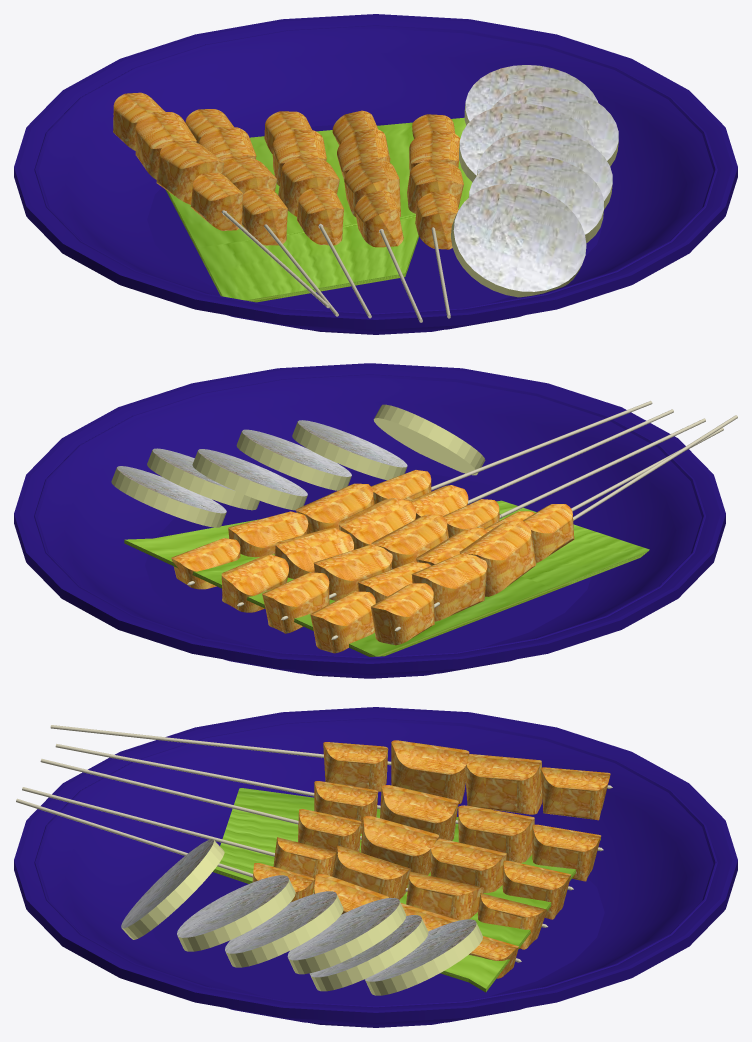
The model's file is sate ayam dan lontong.fbx.
The picture shows the model from 3 angles, top to bottom: view 1: azimuth 30°, elevation 25°; view 2: azimuth 150°, elevation 25°; view 3: azimuth 270°, elevation 25°; orthographic projection.
Parts seen in each view (by area): view 1: piring, sate.002, Cube, Cylinder.004, Cylinder.001, Cylinder.003, Cylinder.002, Cylinder.005, Cylinder.006; view 2: piring, sate.002, Cube, Cylinder.004, Cylinder.003, Cylinder.002, Cylinder.001, Cylinder.006, Cylinder.005; view 3: piring, sate.002, Cube, Cylinder.001, Cylinder.003, Cylinder.002, Cylinder.006, Cylinder.004, Cylinder.005.
Boxes of the visible parts, x1=… form: piring: x1=14, y1=14, x2=737, y2=334; sate.002: x1=113, y1=92, x2=463, y2=322; Cube: x1=165, y1=117, x2=472, y2=302; Cylinder.004: x1=451, y1=184, x2=586, y2=297; Cylinder.001: x1=468, y1=155, x2=603, y2=242; Cylinder.003: x1=459, y1=103, x2=593, y2=182; Cylinder.002: x1=477, y1=130, x2=612, y2=209; Cylinder.005: x1=491, y1=87, x2=618, y2=166; Cylinder.006: x1=464, y1=65, x2=598, y2=125; piring: x1=14, y1=363, x2=725, y2=678; sate.002: x1=171, y1=401, x2=737, y2=653; Cube: x1=124, y1=500, x2=649, y2=656; Cylinder.004: x1=373, y1=404, x2=485, y2=475; Cylinder.003: x1=192, y1=449, x2=307, y2=510; Cylinder.002: x1=236, y1=429, x2=351, y2=490; Cylinder.001: x1=292, y1=420, x2=407, y2=480; Cylinder.006: x1=111, y1=466, x2=226, y2=527; Cylinder.005: x1=147, y1=448, x2=259, y2=510; piring: x1=14, y1=707, x2=737, y2=1027; sate.002: x1=16, y1=725, x2=612, y2=978; Cube: x1=213, y1=788, x2=600, y2=992; Cylinder.001: x1=177, y1=875, x2=295, y2=951; Cylinder.003: x1=287, y1=897, x2=406, y2=974; Cylinder.002: x1=225, y1=891, x2=343, y2=967; Cylinder.006: x1=364, y1=919, x2=482, y2=995; Cylinder.004: x1=121, y1=839, x2=224, y2=939; Cylinder.005: x1=309, y1=915, x2=428, y2=991.
Bounding box in the file's own units: 9706 × 1694 × 9706.
